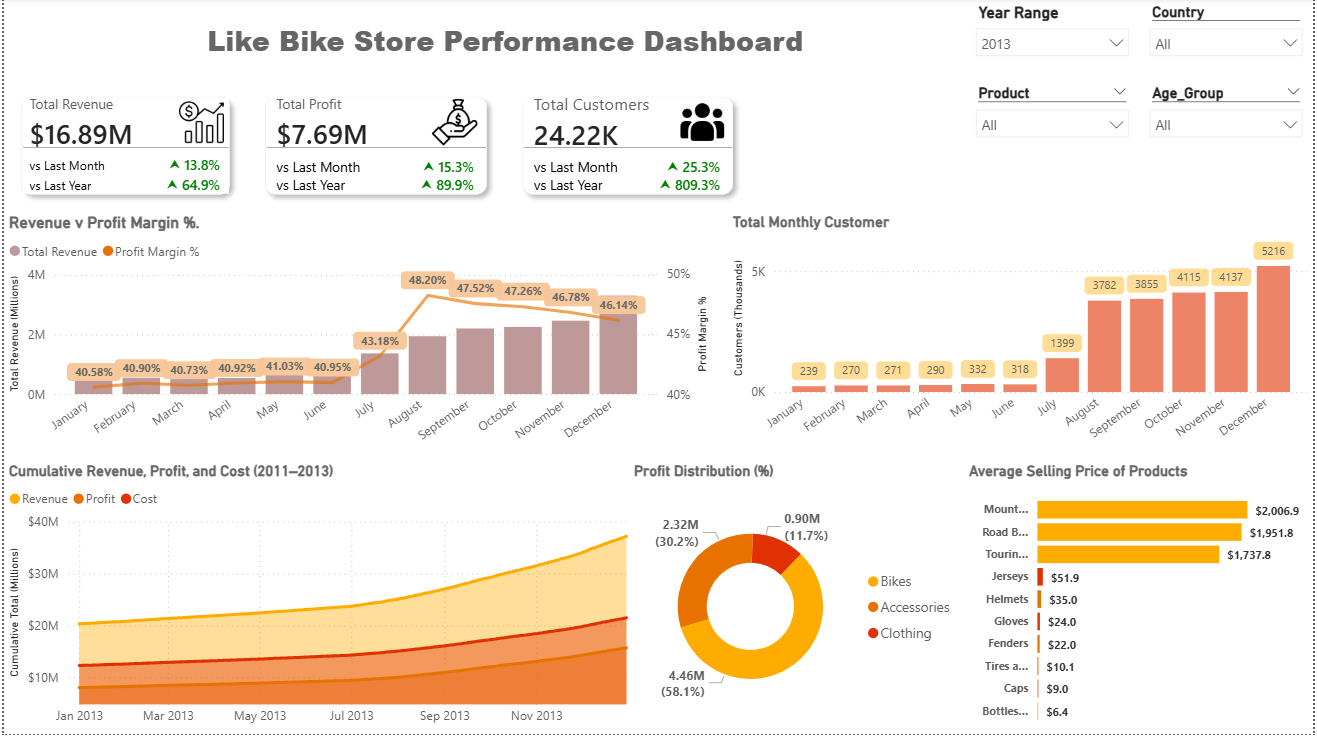

This screenshot's page, from the dashboard's own definition file:
{"tool":"powerbi","page":{"name":"Dashboard","canvas":[1280,720],"ordinal":1},"visuals":[{"type":"lineStackedColumnComboChart","title":"Revenue v Profit Margin %.","fields":{"Y":["All Measures.Total Revenue"],"Category":["Date.Month"],"Y2":["All Measures.Profit Margin %"]},"box":[0,210.3,694.6,243.3],"z":0},{"type":"barChart","title":"Average Selling Price of Products","fields":{"Category":["raw.Sub_Category"],"Series":["raw.Product_Category"],"Y":["All Measures.Avg Selling Price"]},"box":[939.1,453.7,341.2,266.6],"z":1000},{"type":"lineStackedColumnComboChart","title":"Total Monthly Customer","fields":{"Category":["Date.Month"],"Y":["All Measures.Total Customers"]},"box":[708,210.3,572.3,243.3],"z":2000},{"type":"slicer","fields":{"Values":["raw.Product_Category"]},"box":[939.8,78.9,170.2,65.1],"z":3000},{"type":"slicer","fields":{"Values":["raw.Country"]},"box":[1110,0,170.2,78.9],"z":4000},{"type":"textbox","box":[0,0,980.7,79.5],"z":5000},{"type":"slicer","fields":{"Values":["Date.Year"]},"box":[939.8,0,170.2,78.9],"z":6000},{"type":"cardVisual","fields":{"Data":["raw.Total Revenue"]},"box":[0,79.5,238.5,130.8],"z":7000},{"type":"cardVisual","fields":{"Data":["raw.Total Profit"]},"box":[238.5,79.5,251.9,130.8],"z":8000},{"type":"cardVisual","fields":{"Data":["raw.Total Customers"]},"box":[490.4,79.5,240.9,130.8],"z":9000},{"type":"areaChart","title":"Cumulative Revenue, Profit, and Cost (2011–2013)","fields":{"Y":["raw.RT Revenue","raw.RT Profit","raw.RT Cost"],"Category":["Date.Date"]},"box":[0,453.3,640.1,266.5],"z":11000},{"type":"donutChart","title":"Profit Distribution (%)","fields":{"Category":["raw.Product_Category"],"Y":["All Measures.Total Profit"]},"box":[611.4,453.3,327.9,266.5],"z":12000},{"type":"slicer","fields":{"Values":["raw.Age_Group"]},"box":[1110,78.9,170.2,65.1],"z":13000}]}

Visuals, with their boxes in screenshot pixels (x1, y1, x2, y2), scaled from the page's 1280x720 canvas onto the 1317x737 screenshot:
"Revenue v Profit Margin %." lineStackedColumnComboChart: 0 215 715 464
"Average Selling Price of Products" barChart: 966 464 1316 736
"Total Monthly Customer" lineStackedColumnComboChart: 728 215 1316 464
slicer - raw.Product_Category: 967 81 1142 147
slicer - raw.Country: 1142 0 1316 81
textbox: 0 0 1009 81
slicer - Date.Year: 967 0 1142 81
cardVisual - raw.Total Revenue: 0 81 245 215
cardVisual - raw.Total Profit: 245 81 505 215
cardVisual - raw.Total Customers: 505 81 752 215
"Cumulative Revenue, Profit, and Cost (2011–2013)" areaChart: 0 464 659 736
"Profit Distribution (%)" donutChart: 629 464 966 736
slicer - raw.Age_Group: 1142 81 1316 147
